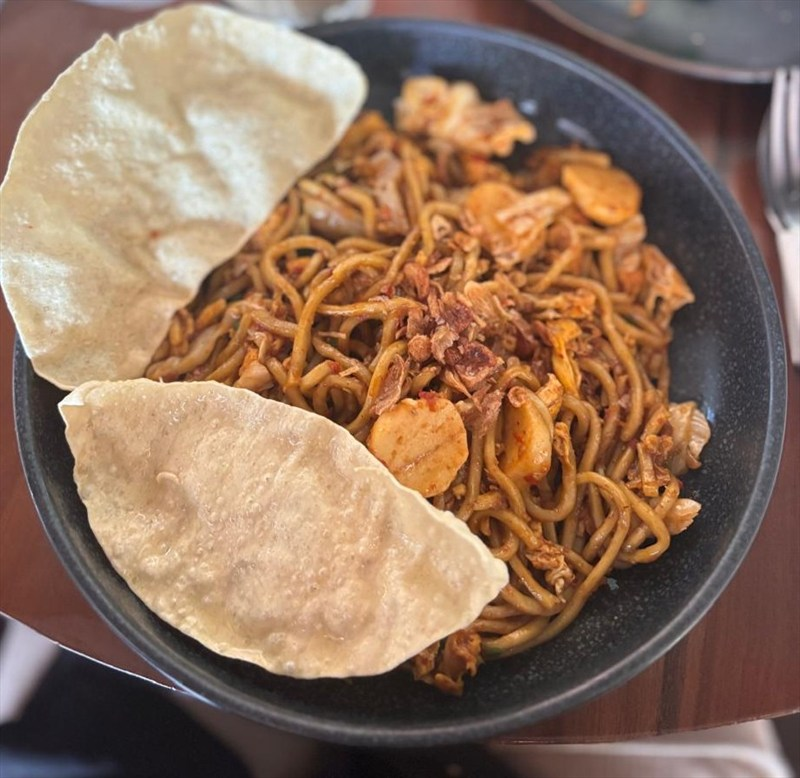Mie Goreng: (147, 115, 678, 656)
